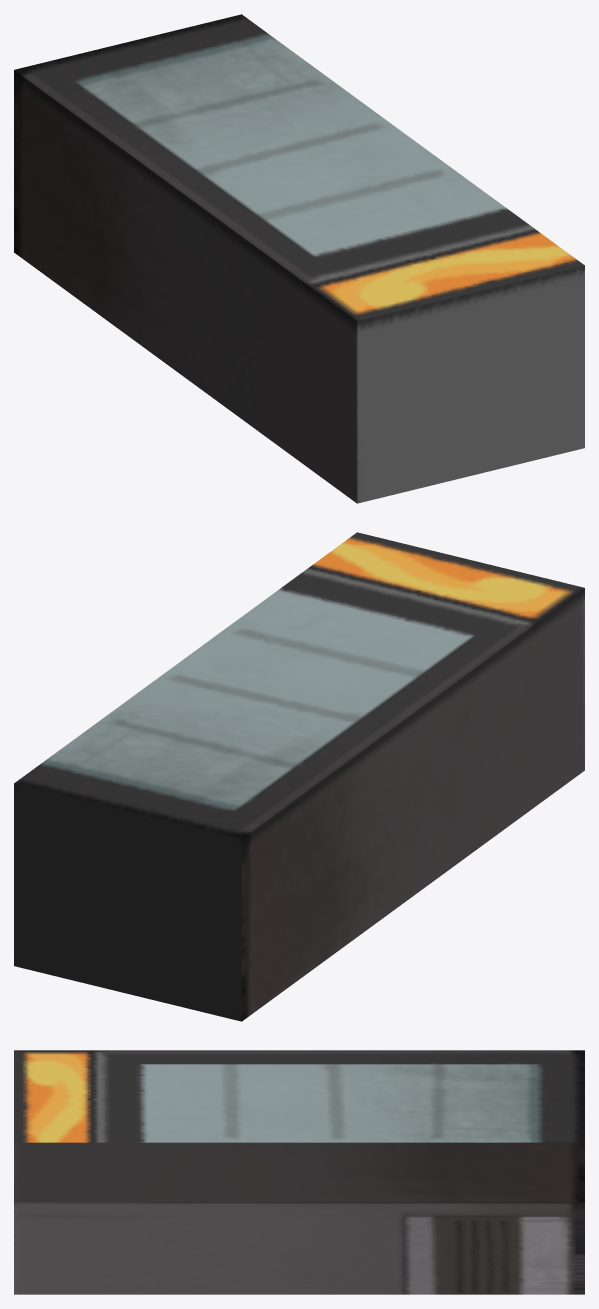
Rendered from pz_g016_large_fridge_part1.obj.
The picture shows the model from 3 angles, top to bottom: view 1: azimuth 30°, elevation 25°; view 2: azimuth 150°, elevation 25°; view 3: azimuth 270°, elevation 25°; orthographic projection. The views are drawn at different scales.
Visible parts, largest first — view 1: native_component_0_y+, native_component_0_x-, native_component_0_z+; view 2: native_component_0_y+, native_component_0_x-, native_component_0_z-; view 3: native_component_0_y-, native_component_0_y+, native_component_0_x-.
Boxes of the visible parts, left/top/right/bottom form: native_component_0_y+: left=14, top=14, right=584, bottom=320; native_component_0_x-: left=14, top=70, right=357, bottom=503; native_component_0_z+: left=357, top=265, right=584, bottom=503; native_component_0_y+: left=14, top=532, right=584, bottom=838; native_component_0_x-: left=241, top=588, right=584, bottom=1021; native_component_0_z-: left=14, top=783, right=241, bottom=1021; native_component_0_y-: left=14, top=1202, right=584, bottom=1294; native_component_0_y+: left=14, top=1050, right=584, bottom=1142; native_component_0_x-: left=14, top=1142, right=584, bottom=1202.
Bounding box in the file's own units: 0.7616 × 0.5833 × 1.99.
Materials: 1 (1 with a texture image).
